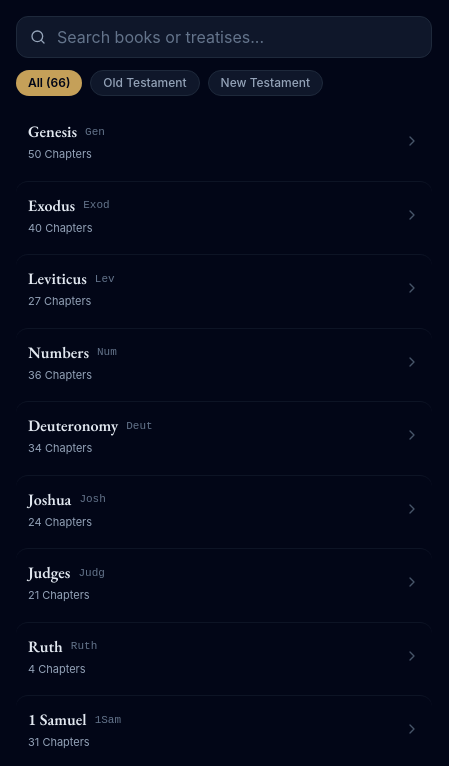
BookListScreen component › displays empty state when no books match search
Type "xyznonexistent" into the field with placeholder "Search books or treatises..." at (224, 37), box [16,16,432,58]
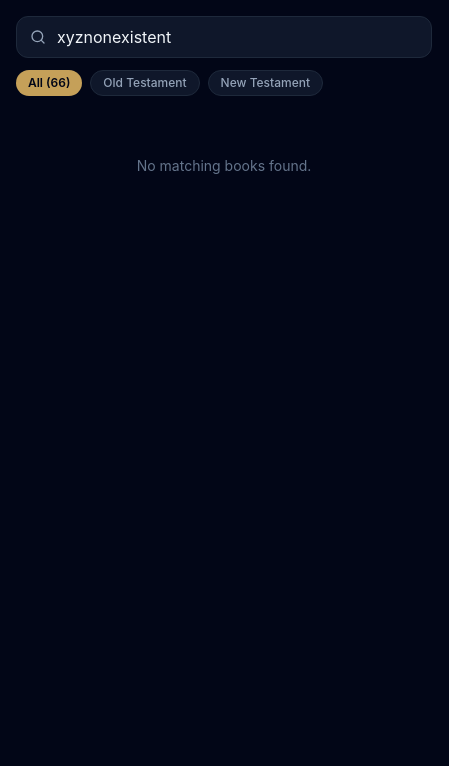
Expected: the text "No matching books found." is shown, [137,157,311,174]
